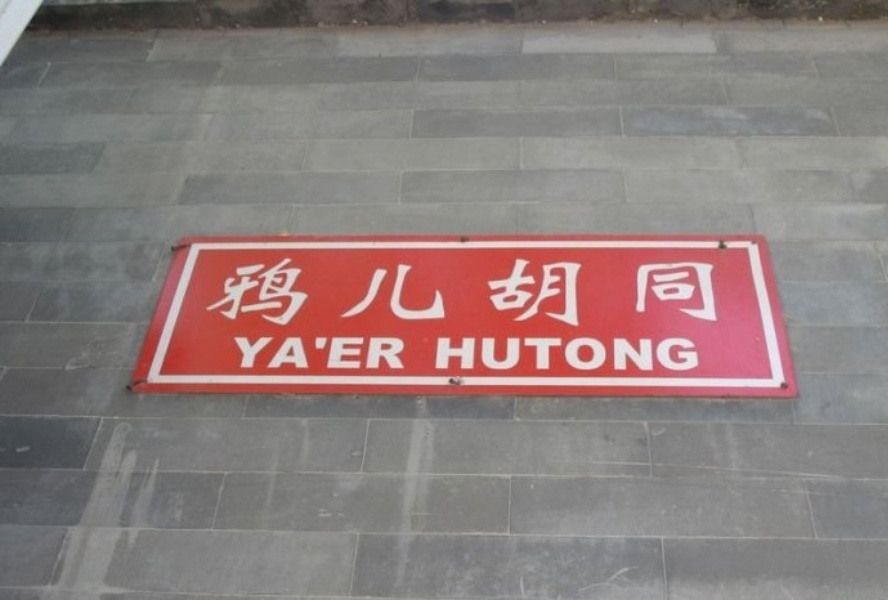text: (209, 255, 224, 328), (225, 255, 240, 328), (241, 255, 256, 328), (257, 255, 272, 328), (273, 255, 288, 328), (289, 255, 304, 328), (305, 255, 320, 328), (321, 255, 336, 328), (337, 255, 352, 328), (353, 255, 368, 328), (369, 255, 384, 328), (385, 255, 400, 328), (401, 255, 416, 328), (417, 255, 432, 328), (433, 255, 448, 328), (449, 255, 464, 328), (465, 255, 480, 328), (481, 255, 496, 328), (497, 255, 512, 328), (513, 255, 528, 328), (529, 255, 544, 328), (545, 255, 560, 328), (561, 255, 576, 328), (577, 255, 592, 328), (593, 255, 608, 328), (609, 255, 624, 328), (625, 255, 640, 328), (641, 255, 656, 328), (657, 255, 672, 328), (673, 255, 688, 328), (689, 255, 704, 328), (705, 255, 720, 328), (241, 335, 256, 371), (257, 335, 272, 371), (273, 335, 288, 371), (289, 335, 304, 371), (305, 335, 320, 371), (321, 335, 336, 371), (337, 335, 352, 371), (353, 335, 368, 371), (369, 335, 384, 371), (385, 335, 400, 371), (449, 337, 464, 373), (465, 337, 480, 373), (481, 337, 496, 373), (497, 337, 512, 373), (513, 337, 528, 373), (529, 337, 544, 373), (545, 337, 560, 373), (561, 337, 576, 373), (577, 337, 592, 373), (593, 337, 608, 373), (609, 337, 624, 373), (625, 337, 640, 373), (641, 337, 656, 373), (657, 337, 672, 373), (673, 337, 688, 373), (435, 337, 448, 373), (689, 337, 699, 373), (233, 335, 240, 371), (401, 335, 408, 371), (205, 255, 208, 328)
